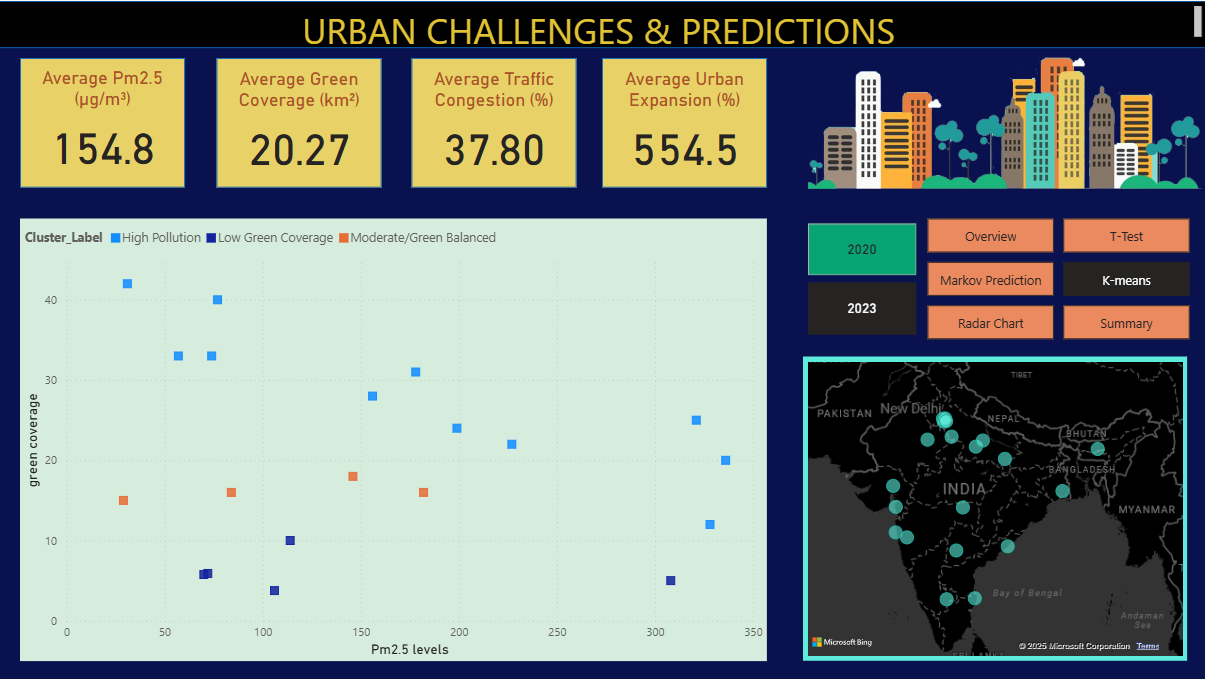

The dashboard page shown, as its layout file describes it:
{"tool":"powerbi","page":{"name":"K-means","canvas":[1280,720],"ordinal":3},"visuals":[{"type":"image","box":[852.5,50,427.5,160],"z":0},{"type":"shape","box":[0,0,1280,50],"z":1000},{"type":"textbox","box":[0,0,1280,50],"z":2000},{"type":"shape","box":[640,60,175,137.5],"z":3000},{"type":"shape","box":[437.5,60,175,137.5],"z":4000},{"type":"shape","box":[230,60,175,137.5],"z":5000},{"type":"shape","box":[22.5,60,175,137.5],"z":6000},{"type":"map","fields":{"Category":["Sheet1.CITY"]},"box":[852.5,377.5,407.5,322.5],"z":7000},{"type":"pageNavigator","box":[984.6,230.6,279.9,128.8],"z":8000},{"type":"card","title":"Average Pm2.5 (µg/m³)","fields":{"Values":["Avg(Sheet1.Pm2.5 levels)"]},"box":[36.6,70,146.3,117.7],"z":9000},{"type":"card","title":"Average Green Coverage (km²)","fields":{"Values":["Avg(Sheet1.green coverage)"]},"box":[245,71.6,146.3,117.7],"z":10000},{"type":"card","title":"Average Traffic Congestion (%)","fields":{"Values":["Avg(Sheet1.Traffic congestion %)"]},"box":[451.7,71.6,146.3,117.7],"z":11000},{"type":"card","title":"Average Urban Expansion (%)","fields":{"Values":["Avg(Sheet1.urban expansion )"]},"box":[653.7,71.6,146.3,117.7],"z":12000},{"type":"advancedSlicerVisual","fields":{"Values":["Sheet1.YEAR"]},"box":[852.6,230.6,125.7,128.8],"z":13000},{"type":"scatterChart","fields":{"X":["clustering_results.Pm2.5 levels"],"Y":["clustering_results.green coverage"],"Series":["clustering_results.Cluster_Label"]},"box":[22.3,230.6,792.1,469.2],"z":14000}]}

Visuals, with their boxes in screenshot pixels (x1, y1, x2, y2), scaled from the page's 1280x720 canvas onto the 1205x679 screenshot:
image: <bbox>803, 47, 1204, 198</bbox>
shape: <bbox>0, 0, 1204, 47</bbox>
textbox: <bbox>0, 0, 1204, 47</bbox>
shape: <bbox>602, 57, 767, 186</bbox>
shape: <bbox>412, 57, 577, 186</bbox>
shape: <bbox>217, 57, 381, 186</bbox>
shape: <bbox>21, 57, 186, 186</bbox>
map - Sheet1.CITY: <bbox>803, 356, 1186, 660</bbox>
pageNavigator: <bbox>927, 217, 1190, 339</bbox>
"Average Pm2.5 (µg/m³)" card: <bbox>34, 66, 172, 177</bbox>
"Average Green Coverage (km²)" card: <bbox>231, 68, 368, 179</bbox>
"Average Traffic Congestion (%)" card: <bbox>425, 68, 563, 179</bbox>
"Average Urban Expansion (%)" card: <bbox>615, 68, 753, 179</bbox>
advancedSlicerVisual - Sheet1.YEAR: <bbox>803, 217, 921, 339</bbox>
scatterChart - clustering_results.Pm2.5 levels x clustering_results.green coverage: <bbox>21, 217, 767, 660</bbox>
